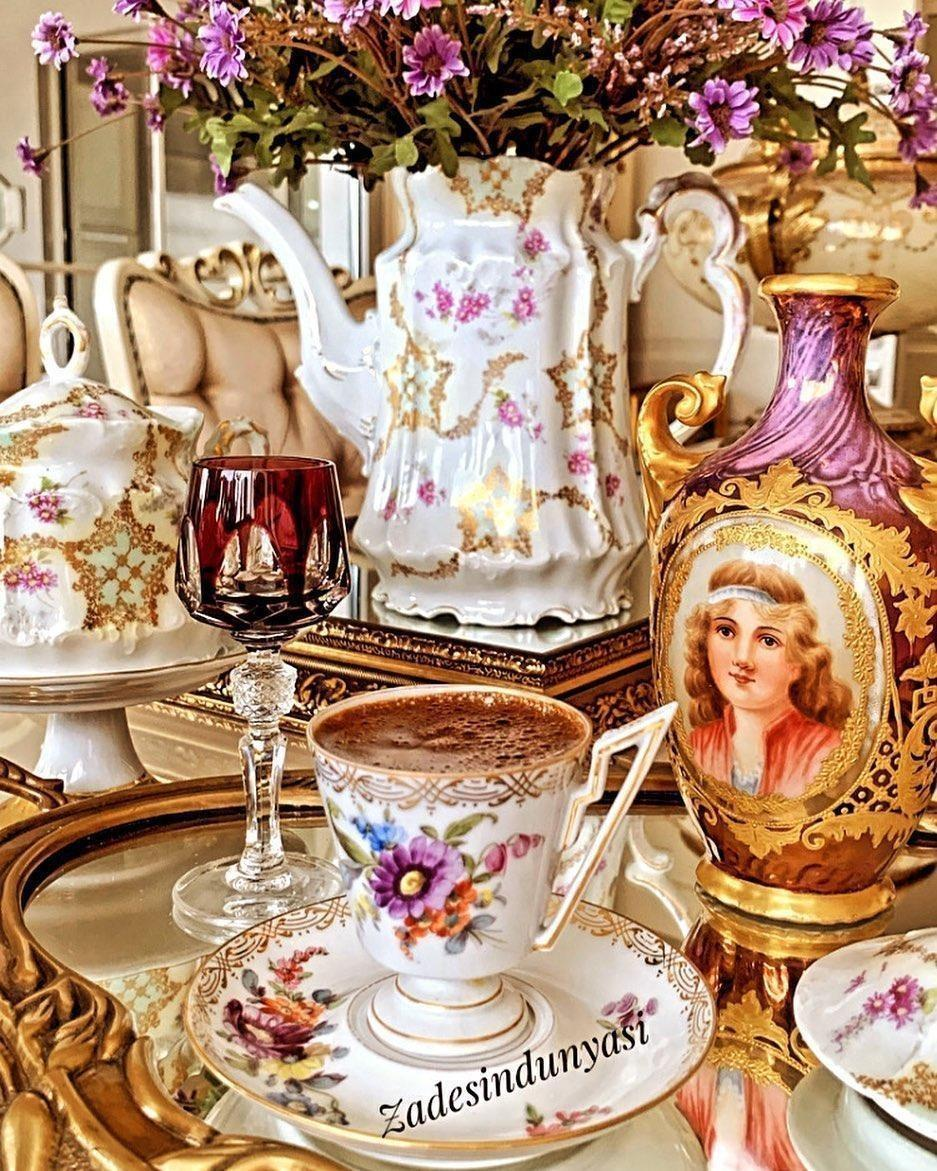cup-handle: (304, 673, 675, 1072)
glass-wine: (163, 446, 369, 944)
